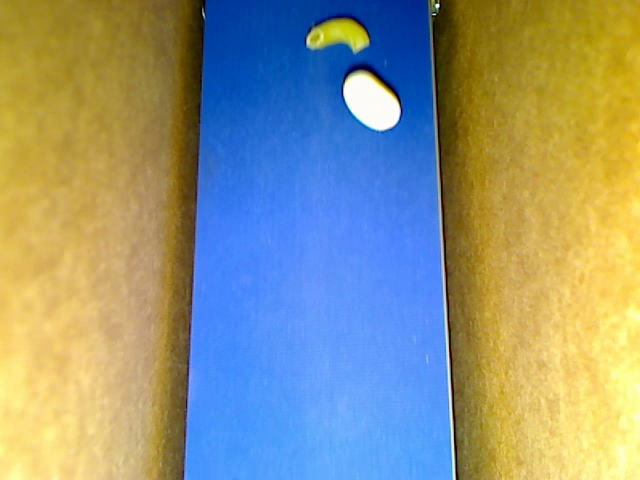elbow: (307, 17, 368, 52)
